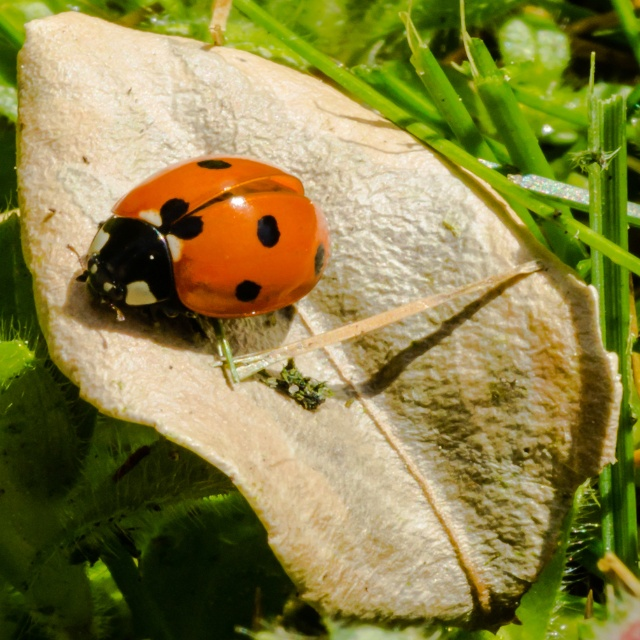Ladybug: (69, 154, 331, 344)
